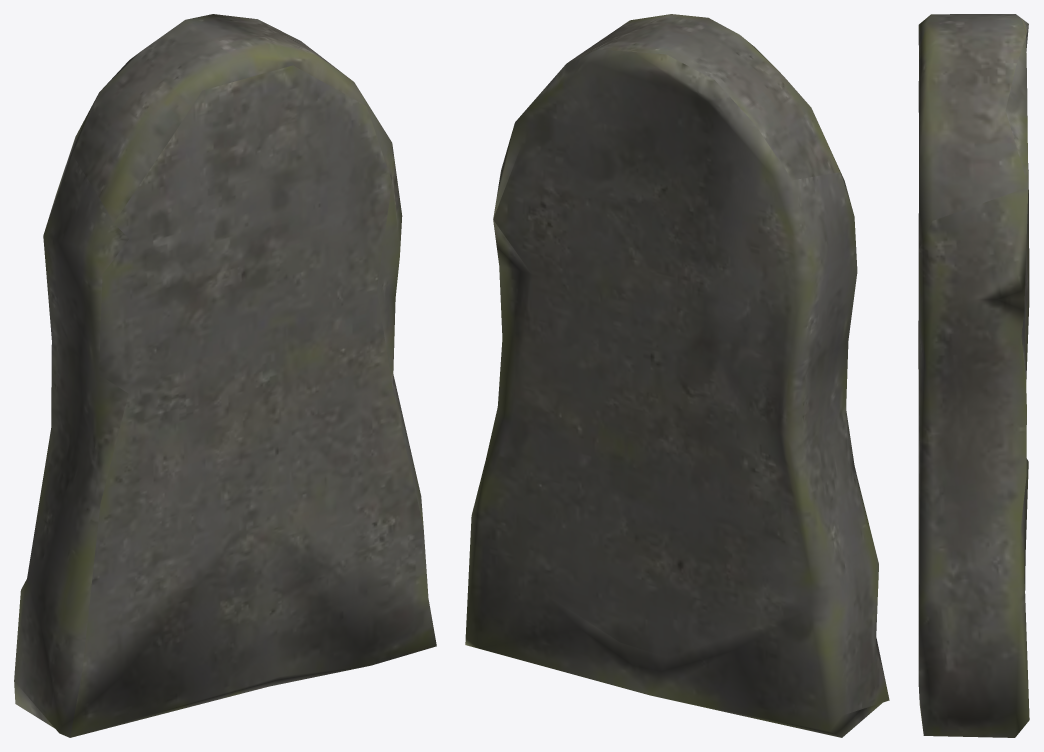
Rendered from AEG023_902out-transformed.glb.
3 views of the same model, side by side, from view 1: azimuth 30°, elevation 25°; view 2: azimuth 150°, elevation 25°; view 3: azimuth 270°, elevation 25° (orthographic). The views are drawn at different scales.
Parts seen in each view (by area): view 1: default; view 2: default; view 3: default.
Part boxes in pixels (x1,y1,x2,y2): default: (14, 14, 436, 737); default: (465, 14, 889, 737); default: (918, 14, 1029, 737).
Bounding box in the file's own units: 0.4311 × 0.6994 × 0.1131.
Materials: 1 (1 with a texture image).
